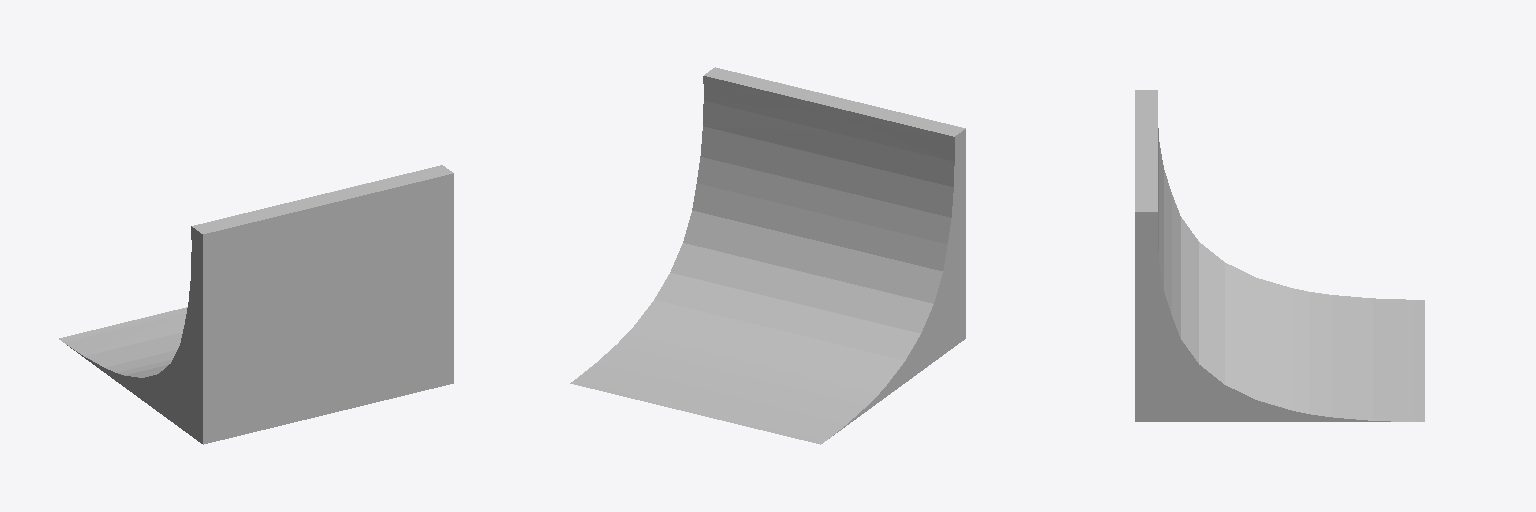
Rendered from Quater_SML_HighVert_.obj.
3 renders of one model, left to right at view 1: azimuth 30°, elevation 25°; view 2: azimuth 150°, elevation 25°; view 3: azimuth 270°, elevation 25°, orthographic.
Visible parts, largest first — view 1: Quater_SML_HighVert_; view 2: Quater_SML_HighVert_; view 3: Quater_SML_HighVert_.
Boxes of the visible parts, box(x1,y1,x2,y2) form: Quater_SML_HighVert_: box(59, 165, 453, 444); Quater_SML_HighVert_: box(570, 67, 965, 444); Quater_SML_HighVert_: box(1135, 90, 1424, 421).
Size of the model in its own units: 10 by 8 by 10.